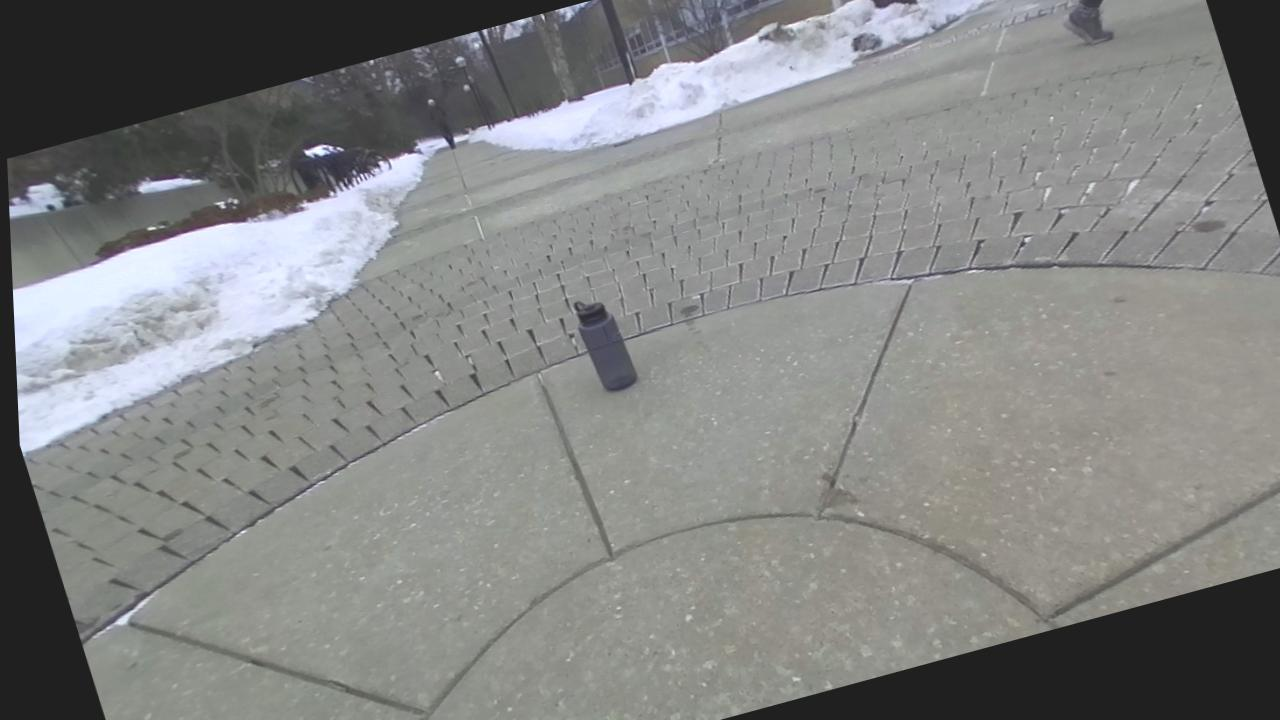bottle: (573, 301, 637, 390)
